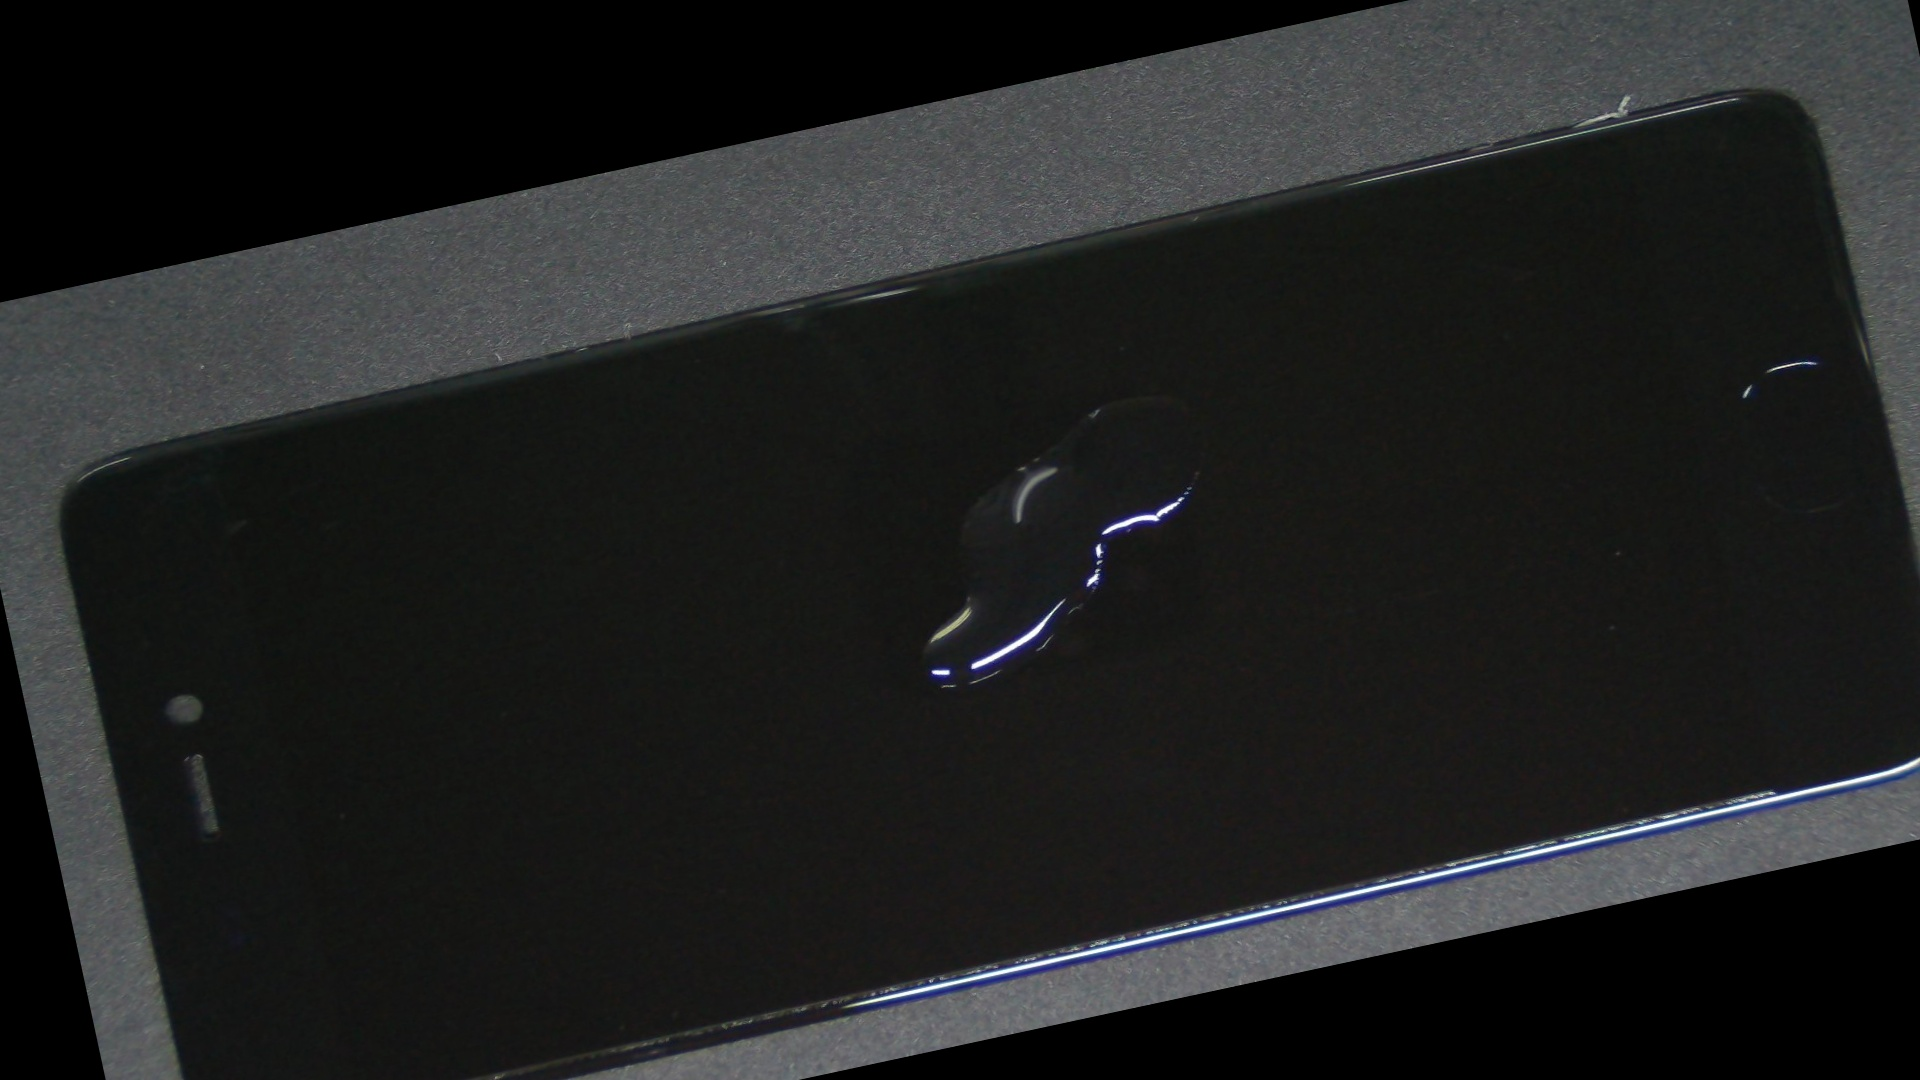oil: (533, 117, 1713, 679)
